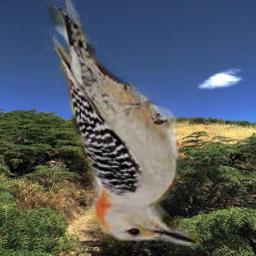Woodpecker: (45, 0, 203, 256)
